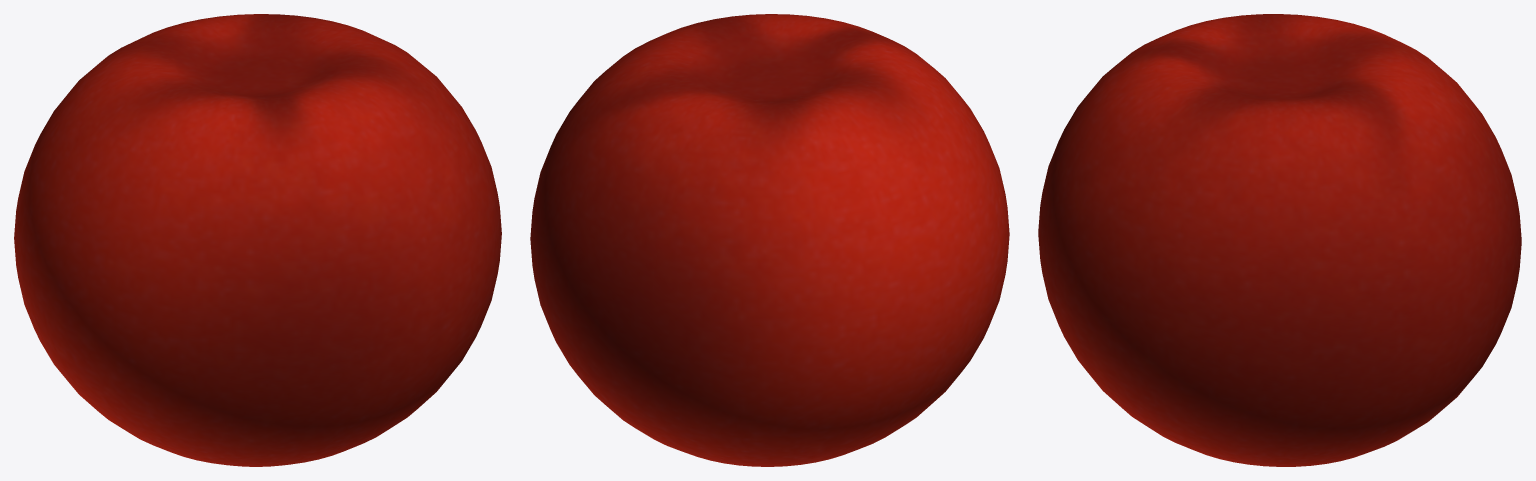
The model's file is tomato_08.obj.
3 renders of one model, left to right at view 1: azimuth 30°, elevation 25°; view 2: azimuth 150°, elevation 25°; view 3: azimuth 270°, elevation 25°, orthographic.
Parts seen in each view (by area): view 1: tomato_08; view 2: tomato_08; view 3: tomato_08.
Boxes of the visible parts, x1=… form: tomato_08: x1=14, y1=14, x2=501, y2=466; tomato_08: x1=530, y1=14, x2=1009, y2=466; tomato_08: x1=1038, y1=14, x2=1521, y2=466.
Size of the model in its own units: 3.94 by 3.45 by 3.94.
Materials: 1 (1 with a texture image).
